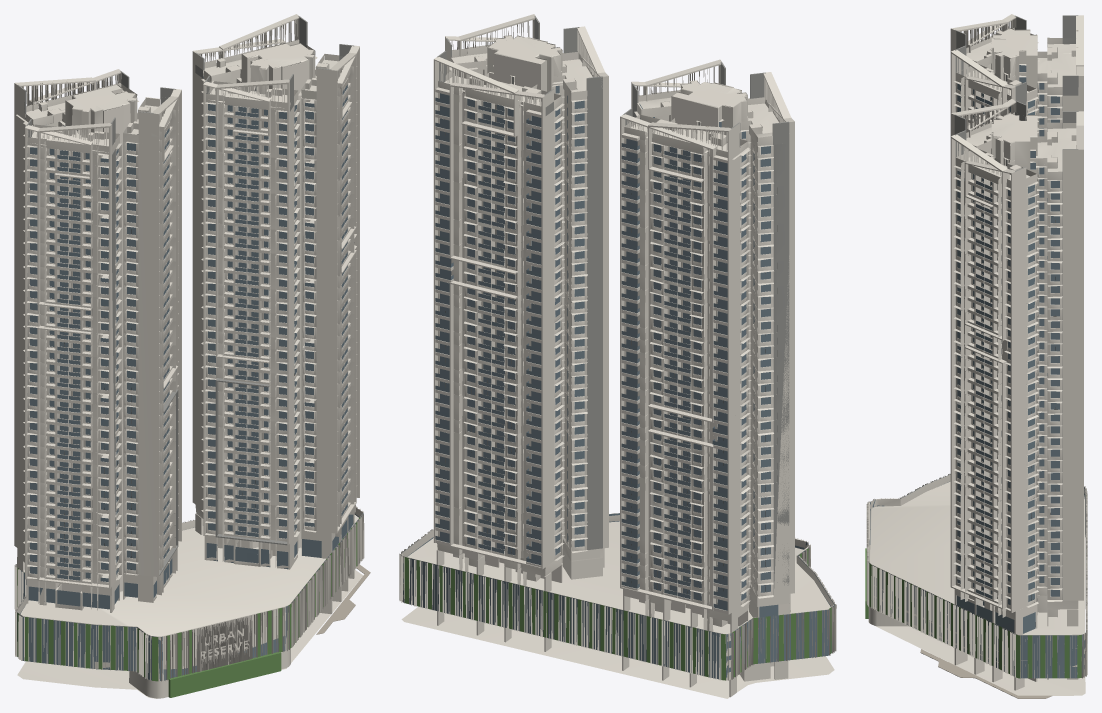
The model's file is urban.glb.
The picture shows the model from 3 angles, left to right: view 1: azimuth 30°, elevation 25°; view 2: azimuth 150°, elevation 25°; view 3: azimuth 270°, elevation 25°; orthographic projection. The views are drawn at different scales.
Visible parts, largest first — view 1: Urban_build; view 2: Urban_build; view 3: Urban_build.
Boxes of the visible parts, box(x1,y1,x2,y2) form: Urban_build: box(14, 14, 370, 698); Urban_build: box(399, 14, 836, 698); Urban_build: box(865, 14, 1087, 698).
Size of the model in its own units: 101 by 142 by 53.88.
